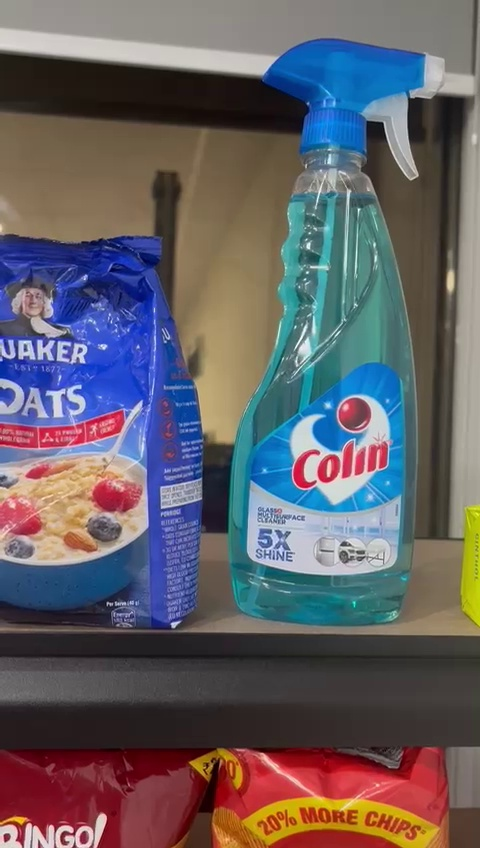Colin: (210, 28, 452, 624)
